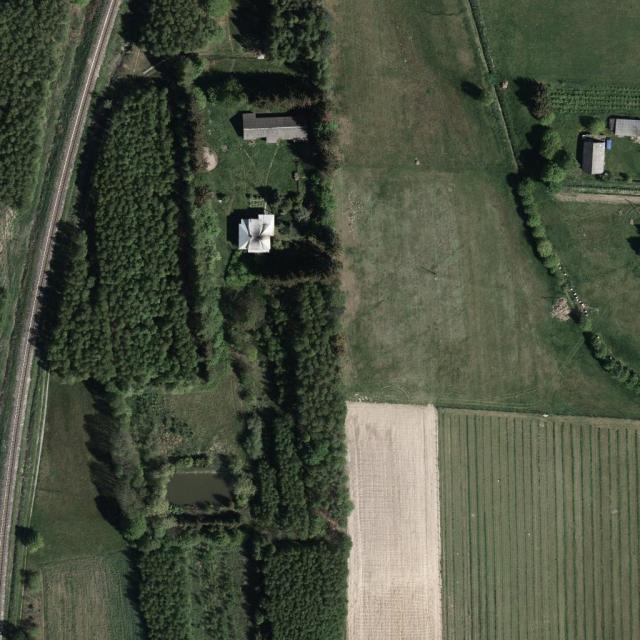building: (570, 116, 640, 182), (241, 112, 309, 147), (239, 214, 275, 252)
greenland: (231, 1, 348, 640), (237, 147, 325, 251)
